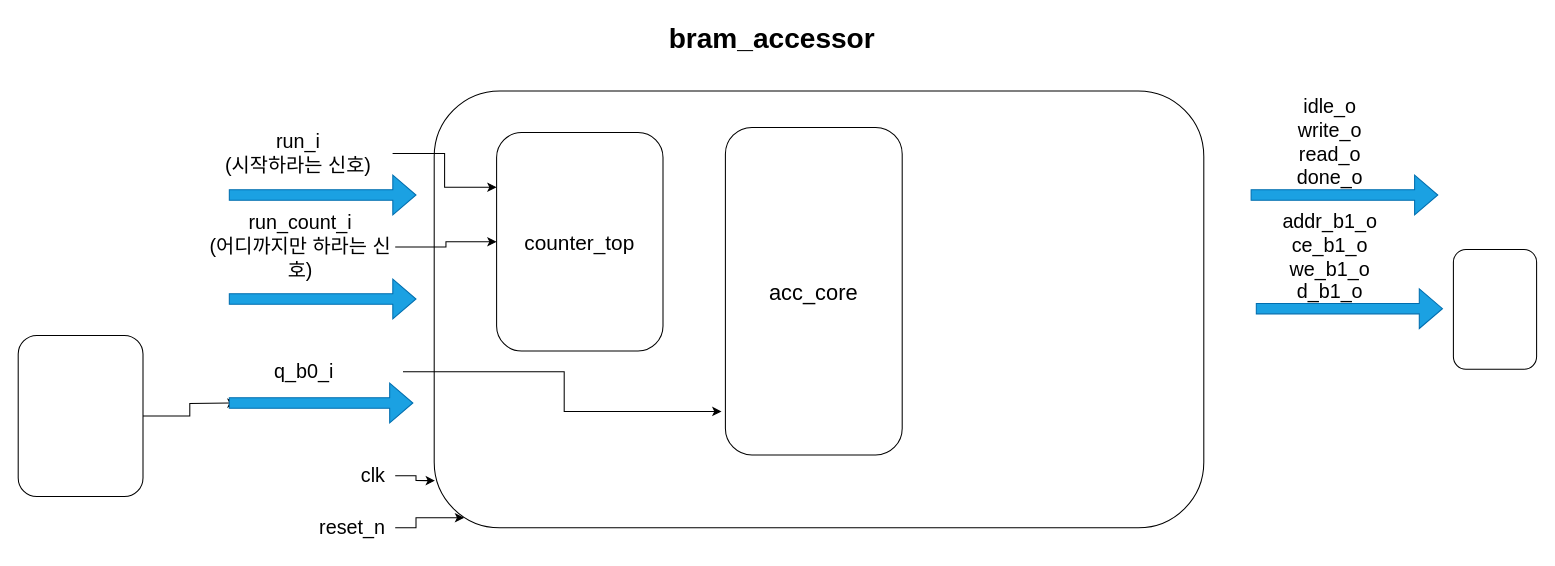
This 1555x566 diagram has some shape labels left out. The shapes that lost their labels are listed below. From the top down, each one's centre as x and y in pixels, then its label:
At pixel 1494 309: "bram1".
At pixel 80 415: "bram0".
